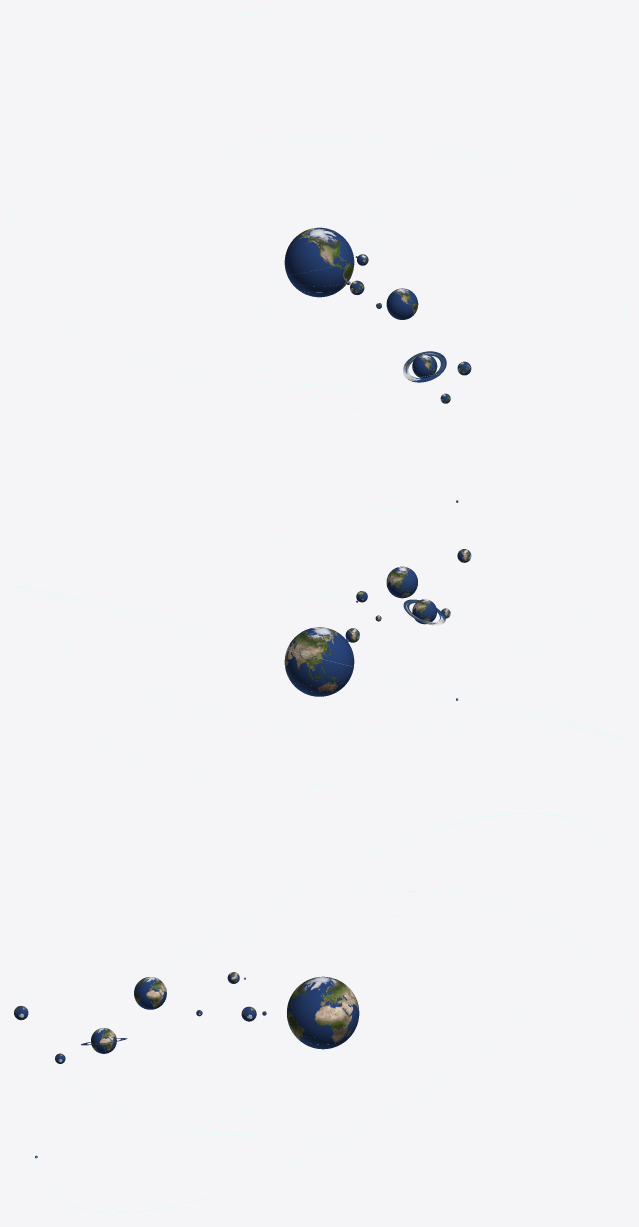
Rendered from Solar-system.fbx.
The picture shows the model from 3 angles, top to bottom: view 1: azimuth 30°, elevation 25°; view 2: azimuth 150°, elevation 25°; view 3: azimuth 270°, elevation 25°; orthographic projection. The views are drawn at different scales.
Visible parts, largest first — view 1: sun_53, pluto_BezierCircle.001_42, jupiter_15; view 2: sun_53, jupiter_15, pluto_BezierCircle.001_42, neptune_BezierCircle.001_41, saturn_19, uranus_BezierCircle.001_40; view 3: sun_53, jupiter_15, pluto_BezierCircle.001_42, neptune_BezierCircle.001_41, saturn_19.
Boxes of the visible parts, x1,y1,x2,y2 form: sun_53: (284,227,354,297); pluto_BezierCircle.001_42: (14,14,624,510); jupiter_15: (386,288,418,319); sun_53: (284,627,354,696); jupiter_15: (386,566,417,598); pluto_BezierCircle.001_42: (15,585,623,738); neptune_BezierCircle.001_41: (29,539,609,784); saturn_19: (412,599,437,624); uranus_BezierCircle.001_40: (63,589,575,734); sun_53: (287,976,359,1049); jupiter_15: (134,977,166,1009); pluto_BezierCircle.001_42: (36,813,609,1212); neptune_BezierCircle.001_41: (21,885,624,1140); saturn_19: (91,1028,116,1053).
Size of the model in its own units: 10847 by 5281 by 10106.
Materials: 13 (12 with a texture image).
